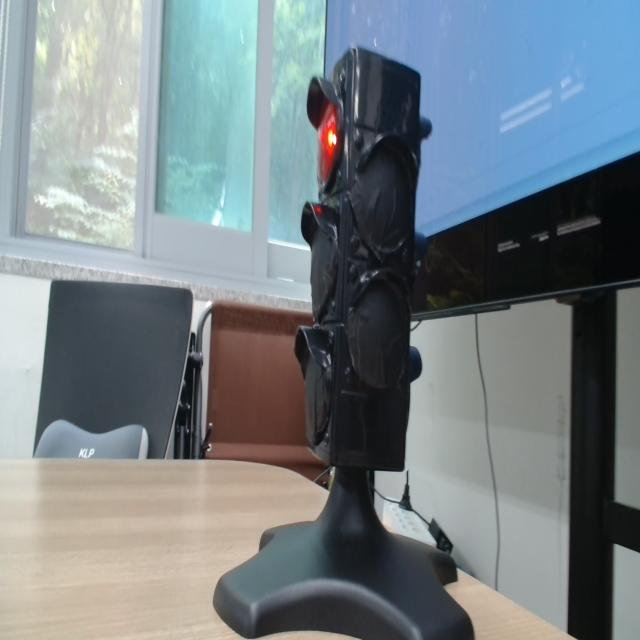red_light: (318, 102, 341, 185)
